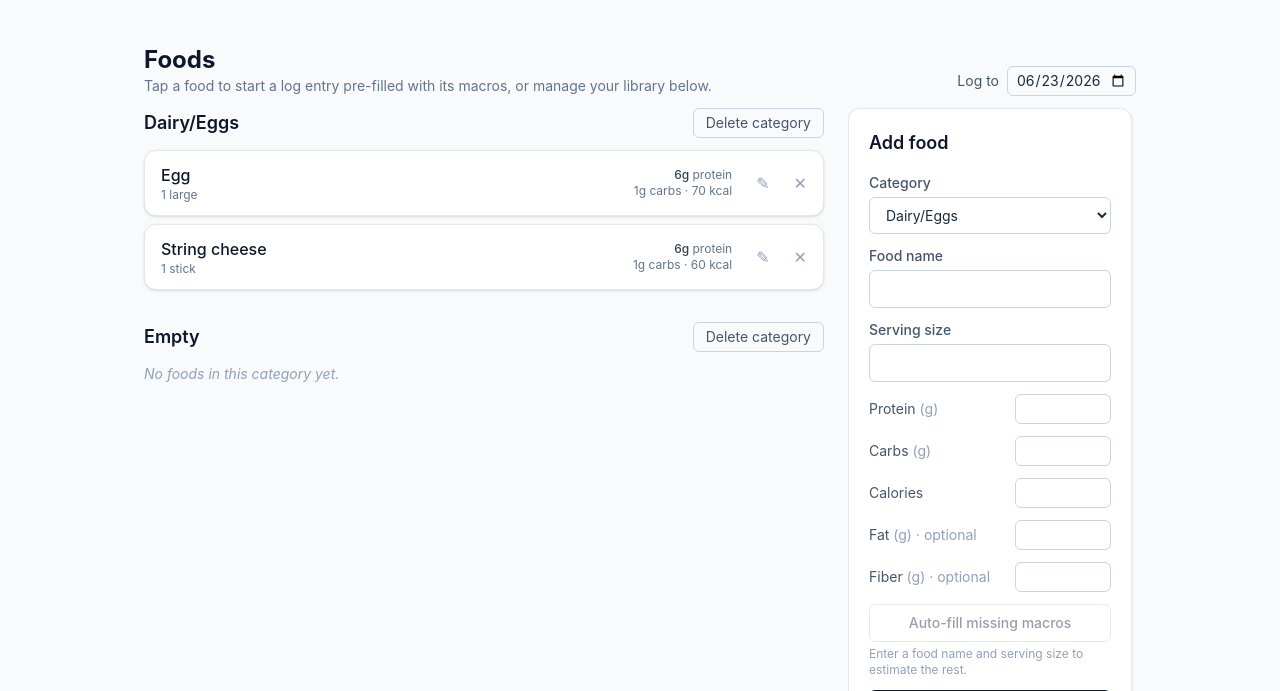
Test: FoodsPage › auto-fill missing macros › is disabled until both food name and serving size are filled
Expected: the button "Auto-fill missing macros" is disabled, [869,604,1111,642]
Step 1. Type "Banana" into the field named "New food name" → (990, 289), box [869,270,1111,308]
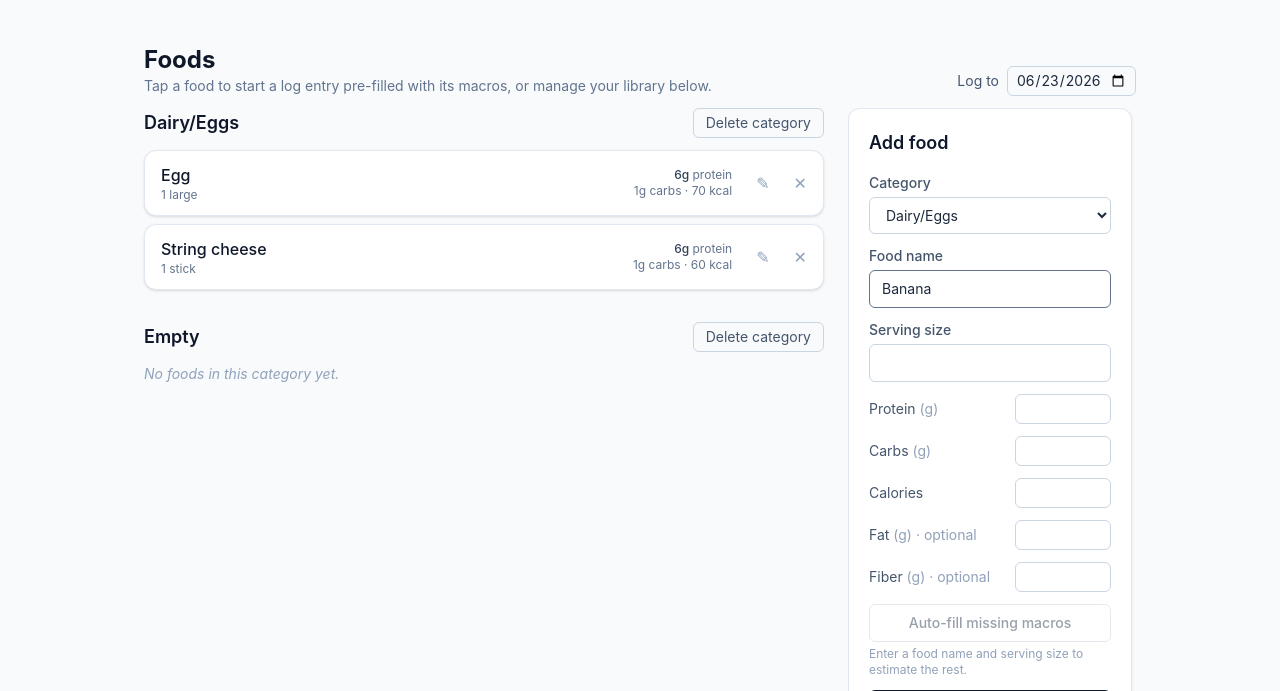
Expected: the button "Auto-fill missing macros" is disabled, [869,604,1111,642]
Step 2. Type "1 medium" into the field named "New food serving size" → (990, 363), box [869,344,1111,382]
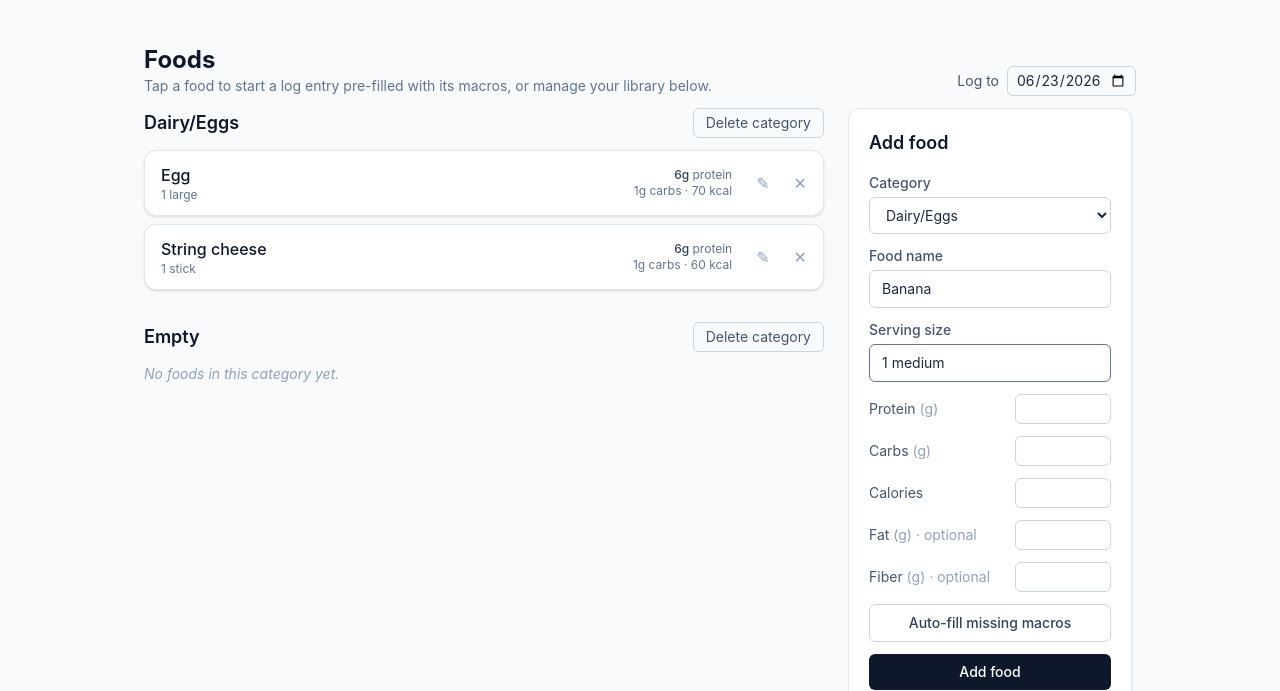
Result: the button "Auto-fill missing macros" is enabled at [869,604,1111,642]
